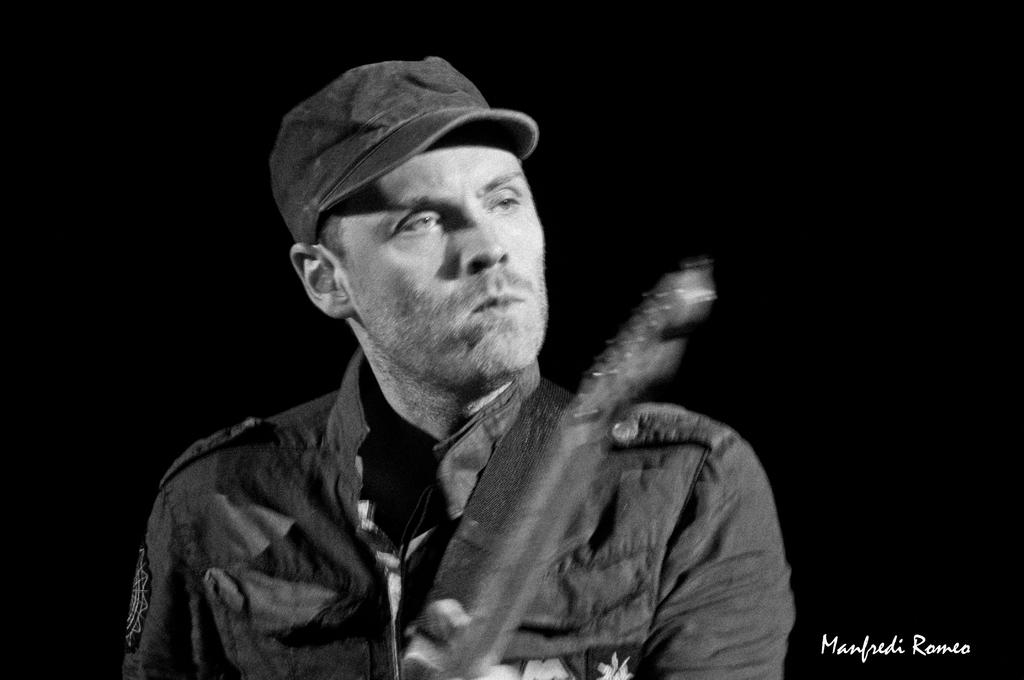Hat: (272, 50, 542, 245)
